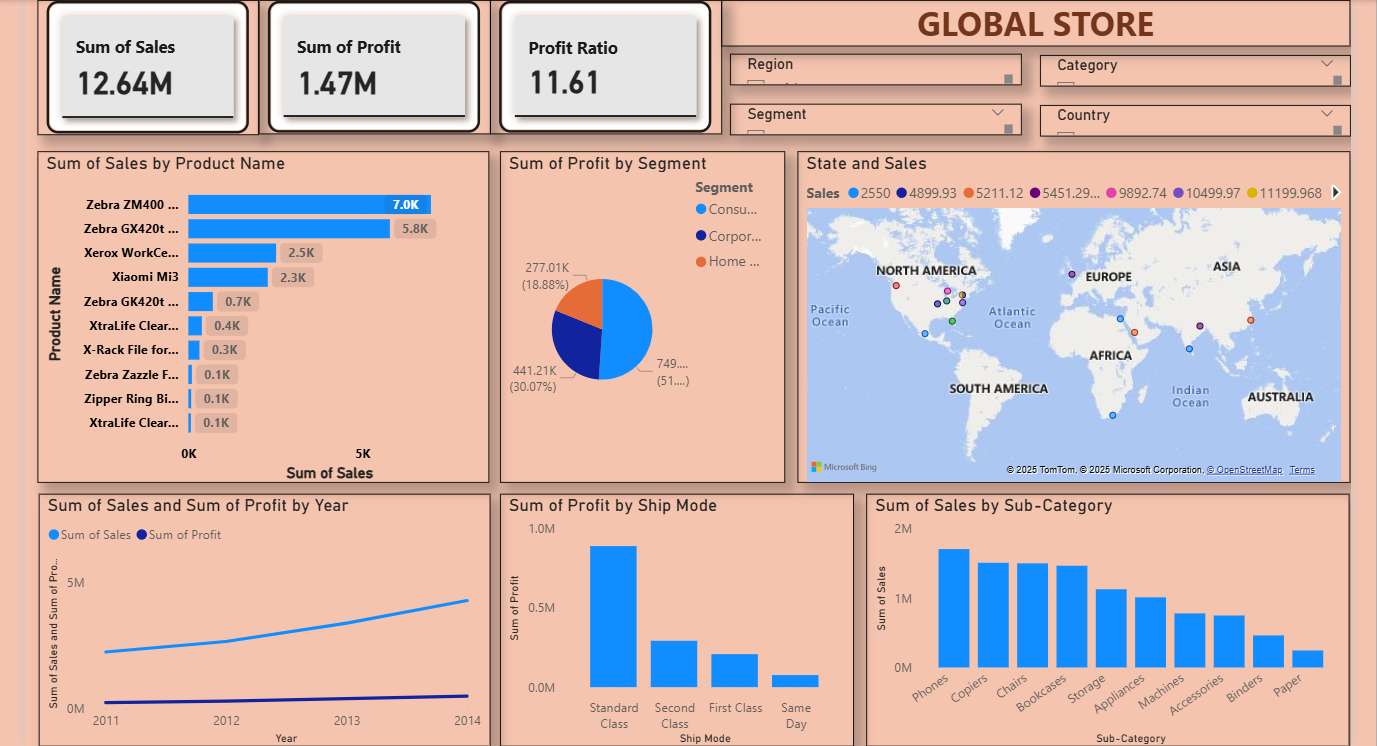

What the dashboard file says about the page in this screenshot:
{"tool":"powerbi","page":{"name":"Page 1","canvas":[1280,720],"ordinal":0},"visuals":[{"type":"cardVisual","fields":{"Data":["Sum(Orders.Sales)"]},"box":[12.1,0,213.5,130.3],"z":0},{"type":"cardVisual","fields":{"Data":["Sum(Orders.Profit)"]},"box":[225.1,0,223.6,129.8],"z":1000},{"type":"cardVisual","fields":{"Data":["Orders.Profit Ratio"]},"box":[448.7,0,223.6,129.8],"z":2000},{"type":"textbox","box":[672.3,0,607.4,44.7],"z":3000},{"type":"barChart","fields":{"Category":["Orders.Product Name"],"Y":["Sum(Orders.Sales)"]},"box":[12.5,145.9,436,320.4],"z":4000},{"type":"lineChart","fields":{"Category":["Orders.Order Date.Variation.Date Hierarchy.Year","Orders.Order Date.Variation.Date Hierarchy.Month"],"Y":["Sum(Orders.Sales)","Sum(Orders.Profit)"]},"box":[13,476.1,435.7,243.8],"z":5000},{"type":"pieChart","fields":{"Category":["Orders.Segment"],"Y":["Sum(Orders.Profit)"]},"box":[458.8,145.7,275.6,320.3],"z":6000},{"type":"clusteredColumnChart","fields":{"Category":["Orders.Ship Mode"],"Y":["Sum(Orders.Profit)"]},"box":[458.8,476.1,341.9,243.8],"z":7000},{"type":"map","fields":{"Category":["Orders.State"],"Series":["Orders.Sales"]},"box":[745.9,145.7,533.8,320.3],"z":8000},{"type":"columnChart","fields":{"Category":["Orders.Sub-Category"],"Y":["Sum(Orders.Sales)"]},"box":[812.3,476.1,466,243.8],"z":9000},{"type":"slicer","fields":{"Values":["Orders.Region"]},"box":[681,51.9,281.3,30.3],"z":10000},{"type":"slicer","fields":{"Values":["Orders.Segment"]},"box":[681,99.6,281.3,30.3],"z":11000},{"type":"slicer","fields":{"Values":["Orders.Category"]},"box":[979.6,53.4,300.1,30.3],"z":11001},{"type":"slicer","fields":{"Values":["Orders.Country"]},"box":[979.6,101,300.1,30.3],"z":11002}]}

Visuals, with their boxes in screenshot pixels (x1, y1, x2, y2):
cardVisual - Sum(Orders.Sales): [45, 0, 263, 133]
cardVisual - Sum(Orders.Profit): [262, 0, 491, 133]
cardVisual - Orders.Profit Ratio: [491, 0, 719, 133]
textbox: [719, 0, 1340, 46]
barChart - Orders.Product Name x Sum(Orders.Sales): [45, 149, 490, 476]
lineChart - Orders.Order Date.Variation.Date Hierarchy.Year x Orders.Order Date.Variation.Date Hierarchy.Month: [46, 486, 491, 735]
pieChart - Orders.Segment x Sum(Orders.Profit): [501, 149, 783, 476]
clusteredColumnChart - Orders.Ship Mode x Sum(Orders.Profit): [501, 486, 850, 735]
map - Orders.State x Orders.Sales: [794, 149, 1340, 476]
columnChart - Orders.Sub-Category x Sum(Orders.Sales): [862, 486, 1338, 735]
slicer - Orders.Region: [728, 53, 1015, 84]
slicer - Orders.Segment: [728, 102, 1015, 133]
slicer - Orders.Category: [1033, 55, 1340, 86]
slicer - Orders.Country: [1033, 103, 1340, 134]
